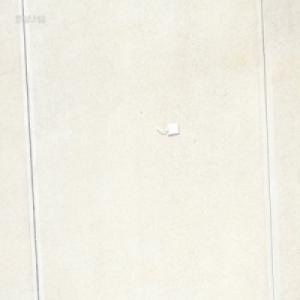LuggageTag: (154, 121, 179, 137)
